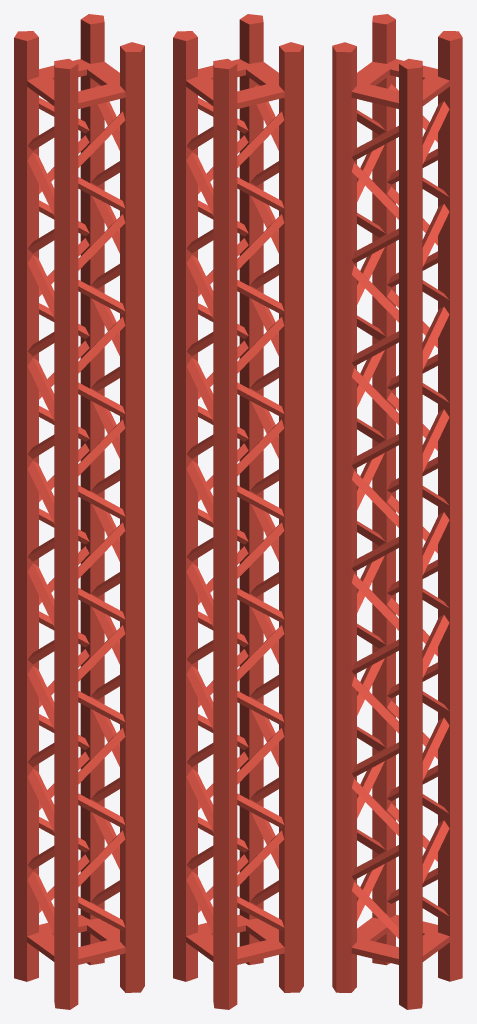
The model's file is SM_Truss_Steel_3m.fbx.
3 renders of one model, left to right at view 1: azimuth 30°, elevation 25°; view 2: azimuth 210°, elevation 25°; view 3: azimuth 330°, elevation 25°, orthographic.
Visible parts, largest first — view 1: SM_Truss_Steel_3m; view 2: SM_Truss_Steel_3m; view 3: SM_Truss_Steel_3m.
Boxes of the visible parts, <box> form: SM_Truss_Steel_3m: <box>14,14,144,1009</box>; SM_Truss_Steel_3m: <box>173,14,303,1009</box>; SM_Truss_Steel_3m: <box>332,14,462,1009</box>.
Bounding box in the file's own units: 29.98 × 29.98 × 300.
